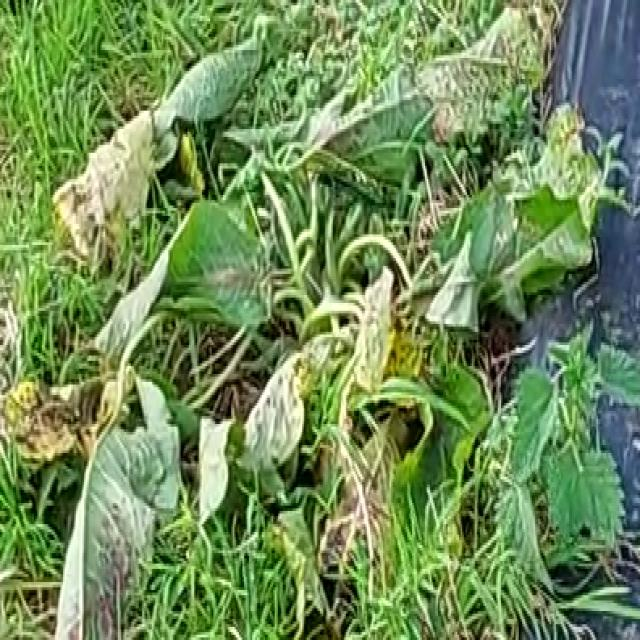organic waste: (45, 40, 618, 638)
